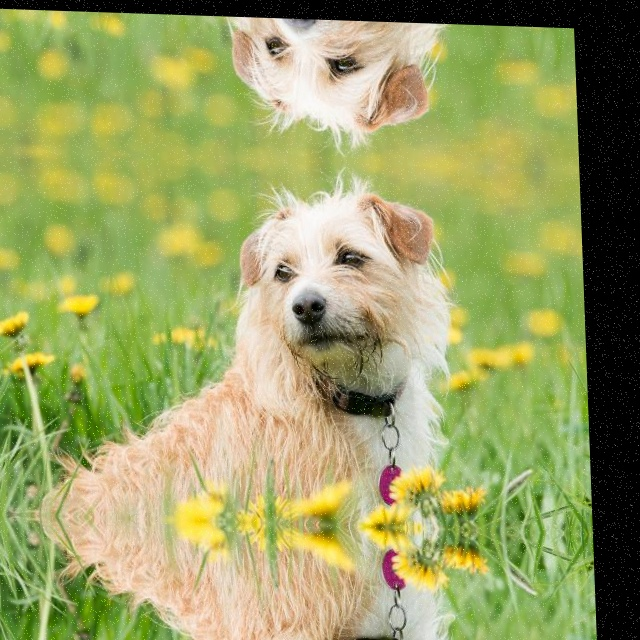dog: (230, 164, 458, 445), (225, 16, 448, 157), (247, 605, 467, 640)
